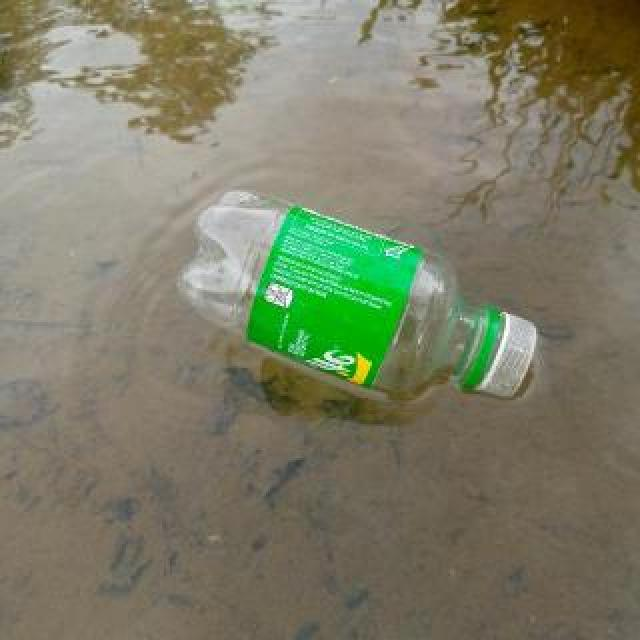Bottle: (170, 180, 546, 410)
